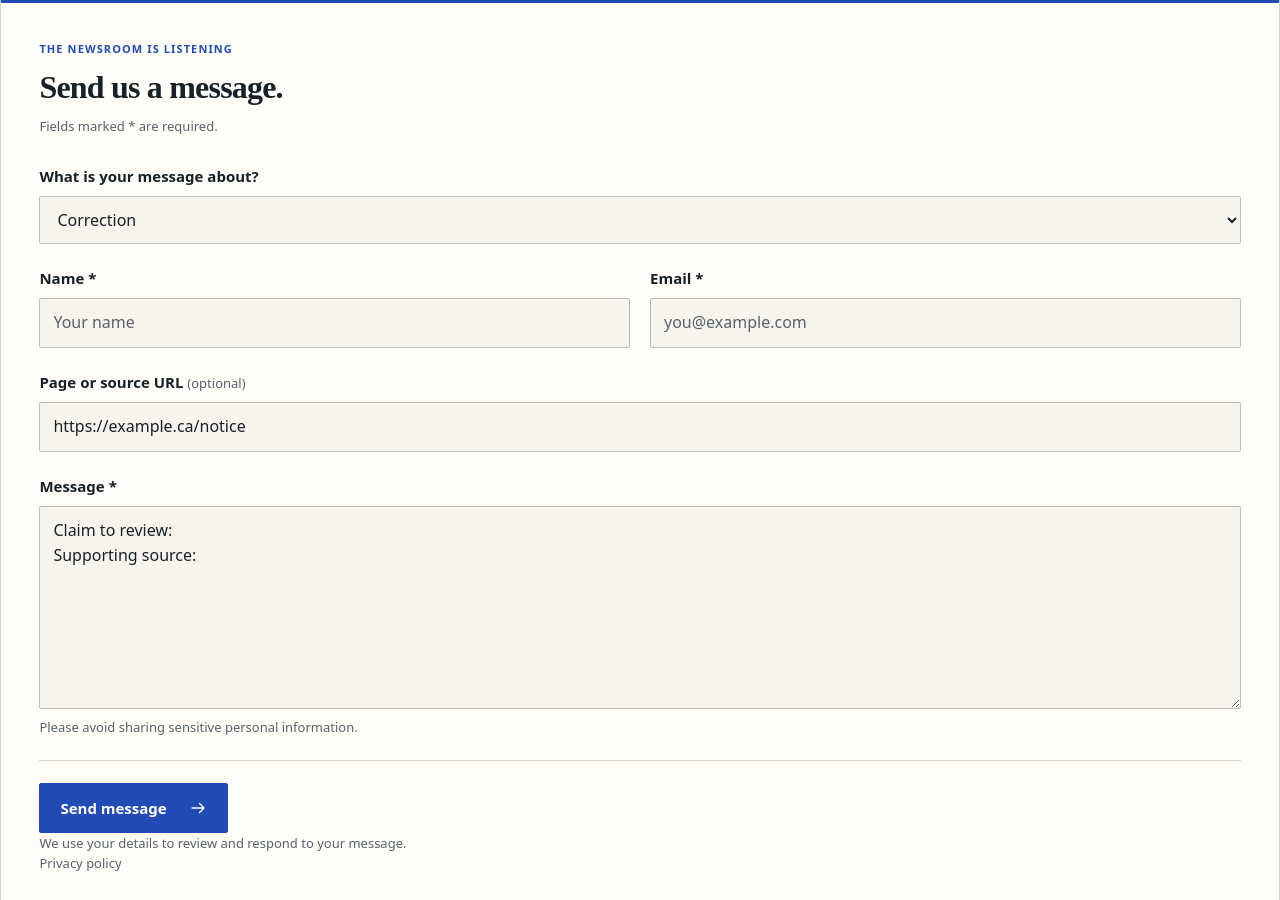
Test: contact reader journeys › routes a correction and its source into the moderation queue
Expected: the dropdown labelled "What is your message about?" shows "Correction", [39,196,1241,244]
Type "Local Reader" into the field labelled "Name *" at (335, 323), box [39,298,630,348]
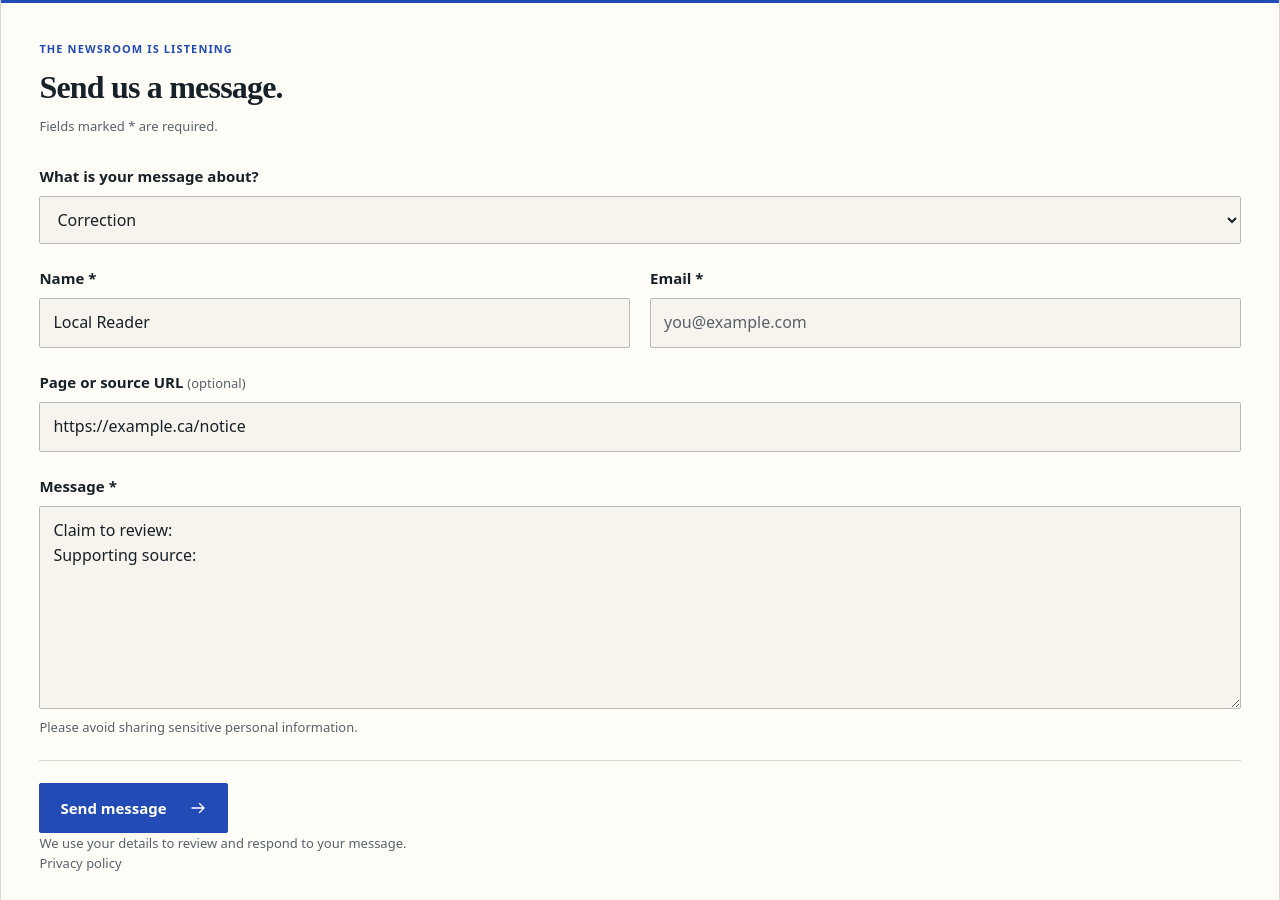
Type " reader@example.com " into the field labelled "Email *" at (945, 323), box [650,298,1241,348]
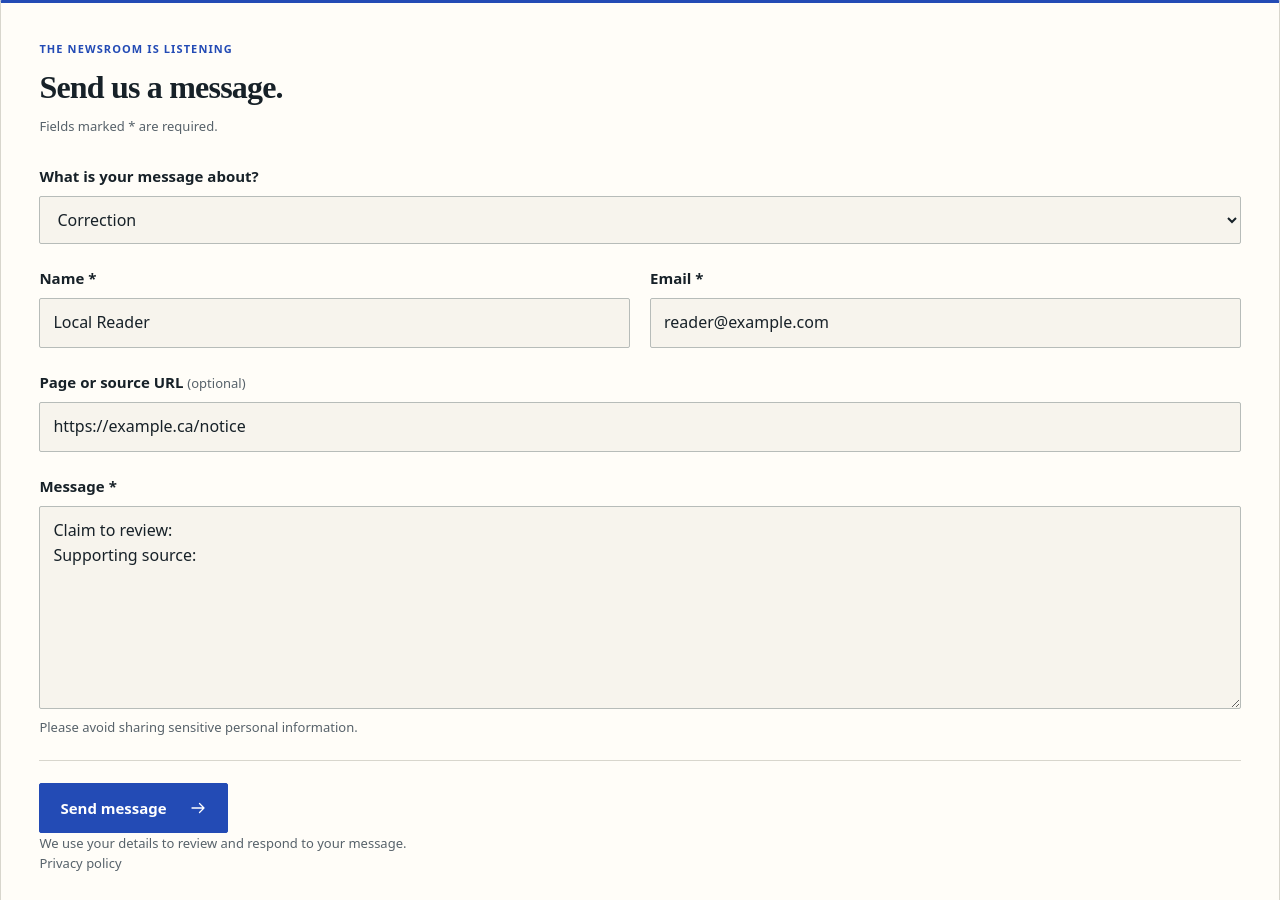
Replace the text in the text box labelled "Message *" with "Please review this public source and the date listed." at (640, 607), box [39,506,1241,709]
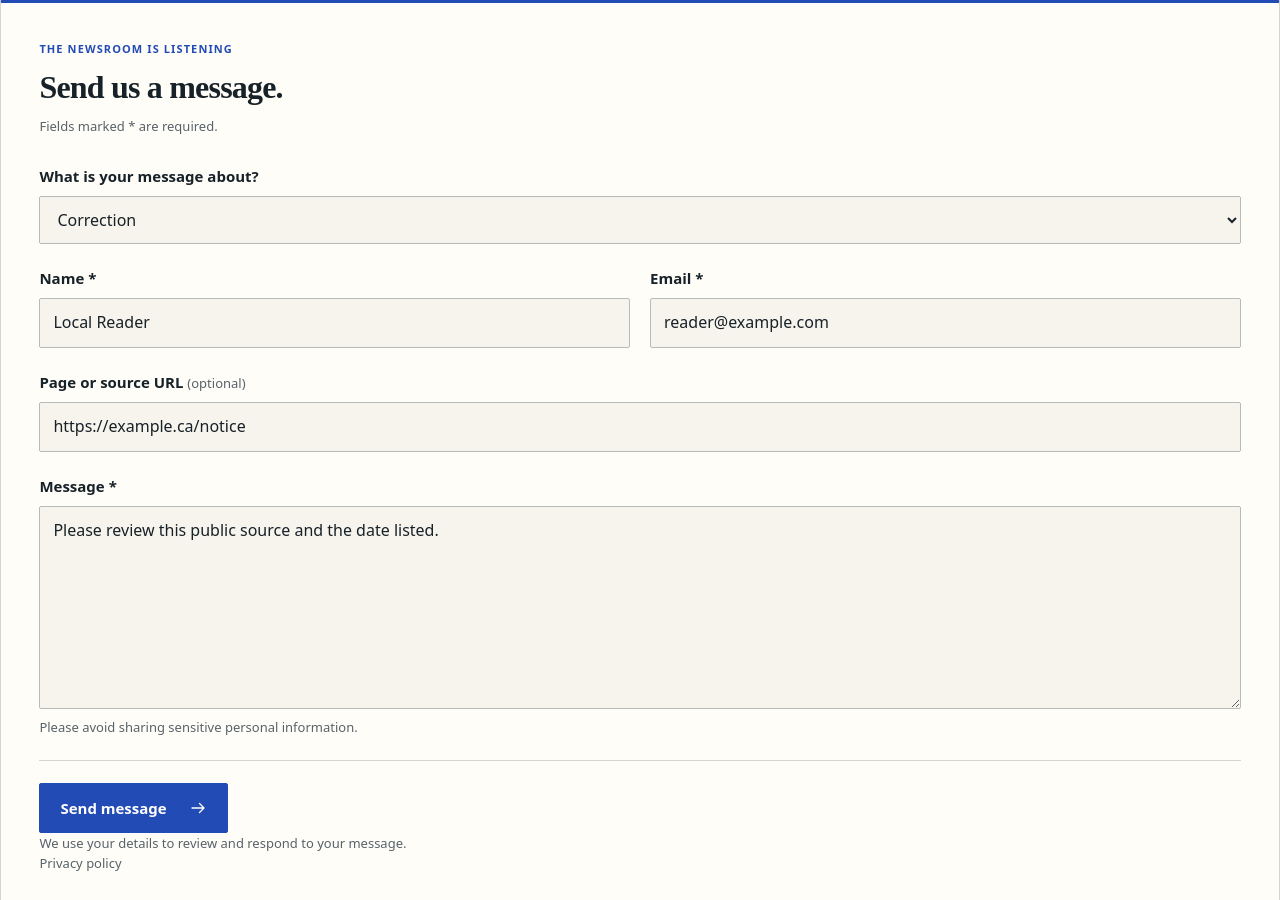
Submit the form named "Send message"
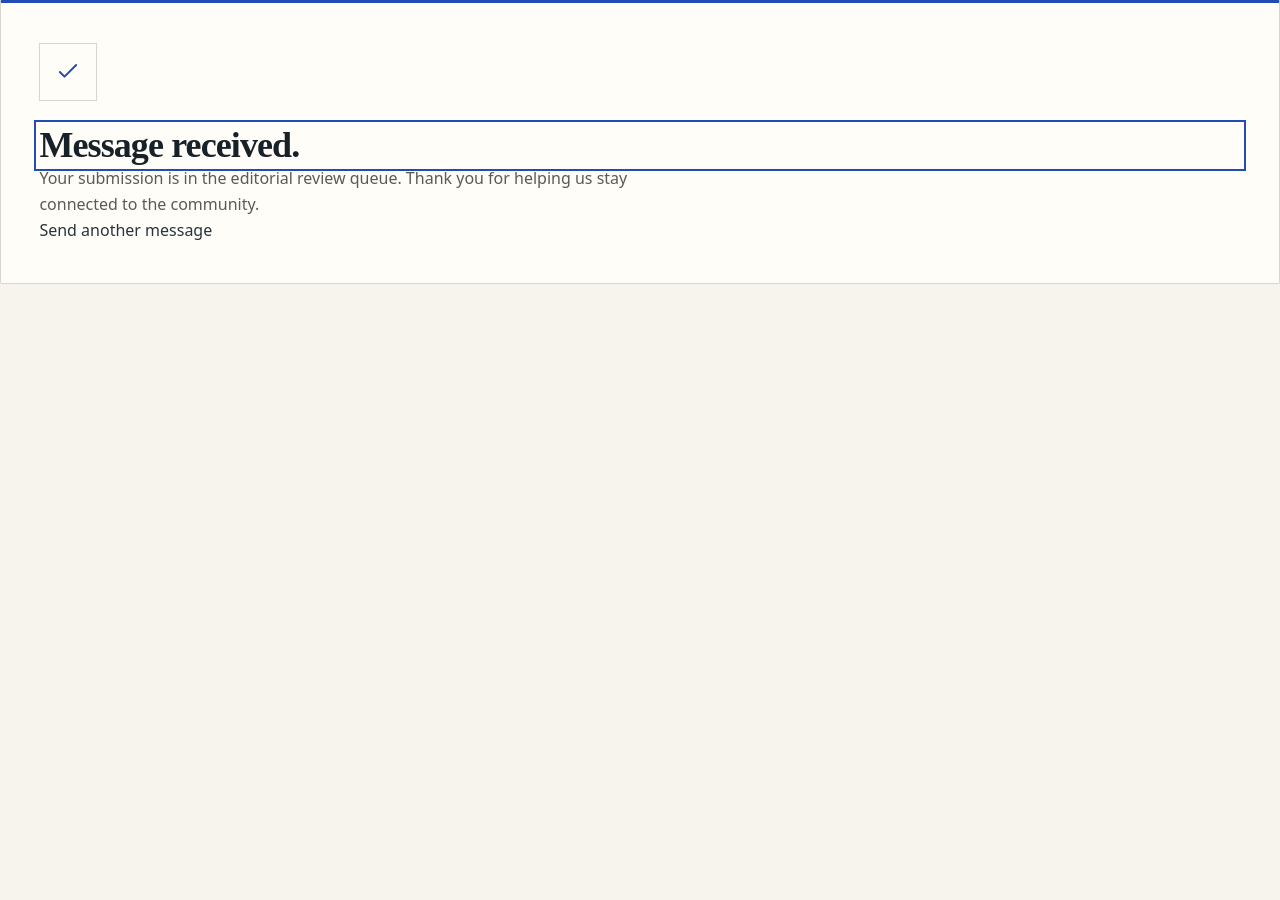
Result: the heading "Message received." is shown at [39,125,299,165]
